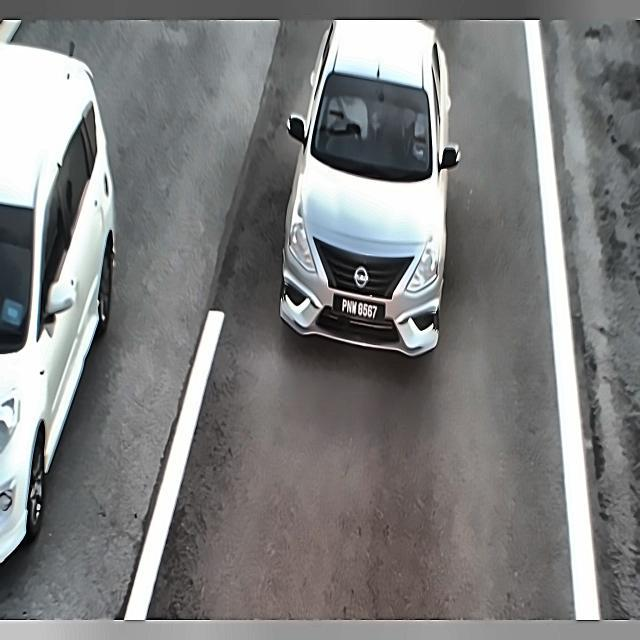car: (330, 290, 391, 326)
